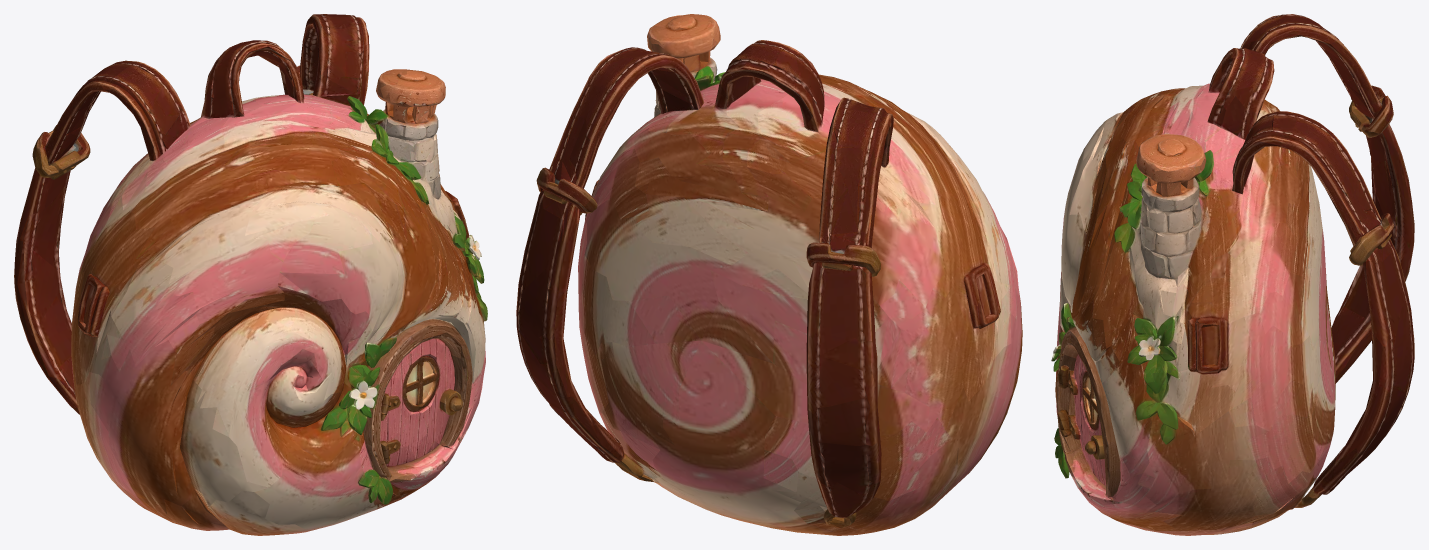
The model's file is snail_shell.glb.
3 renders of one model, left to right at view 1: azimuth 30°, elevation 25°; view 2: azimuth 150°, elevation 25°; view 3: azimuth 270°, elevation 25°, orthographic. The views are drawn at different scales.
Parts seen in each view (by area): view 1: Mesh_0; view 2: Mesh_0; view 3: Mesh_0.
Part boxes in pixels (x1,y1,x2,y2): Mesh_0: (14,14,487,535); Mesh_0: (516,14,1022,535); Mesh_0: (1051,14,1414,535).
Bounding box in the file's own units: 0.905 × 1 × 0.7447.
1 material, 1 textured.
